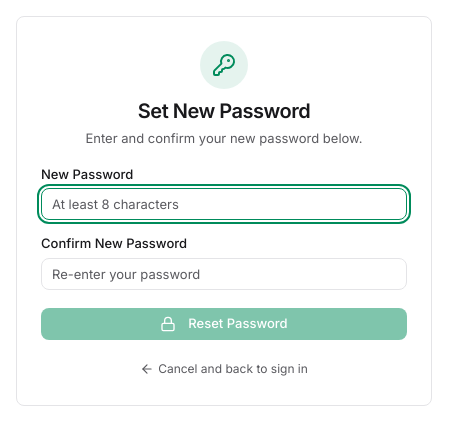
Scenario: Password Reset Frontend Feature › ResetPasswordPage displays reset form when valid token is present and handles submit
Check: the heading "Set New Password" is shown, box [138,99,310,123]
In the password field labelled "New Password": (224, 204) [41,188,407,220], type "brandNewPassword123!"
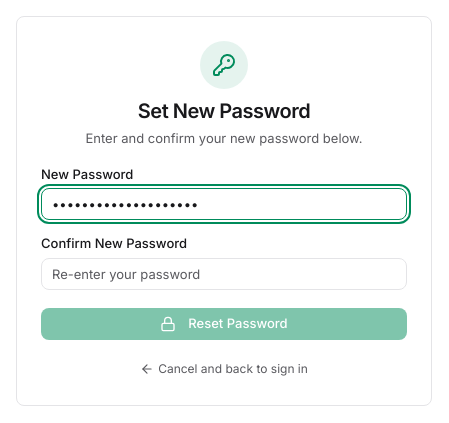
In the password field labelled "Confirm New Password": (224, 274) [41,258,407,290], type "brandNewPassword123!"
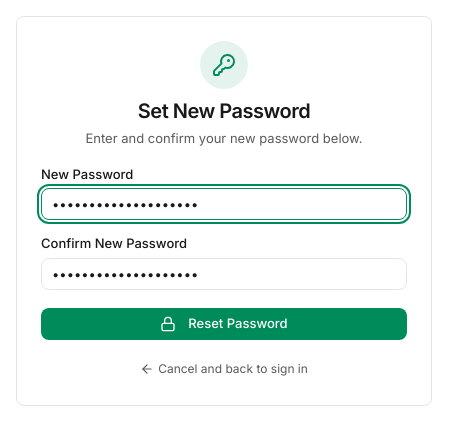
Click the button "Reset Password": (224, 324) [41,308,407,340]
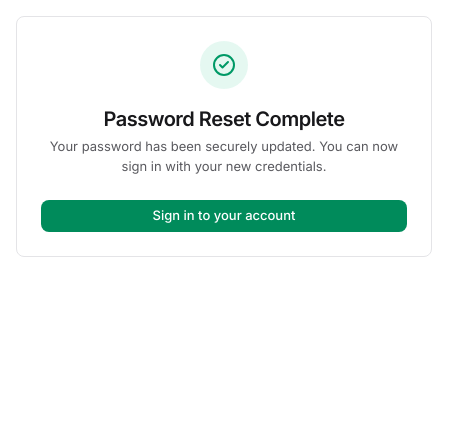
Check: the heading "Password Reset Complete" is shown, box [104,107,345,131]
Check: the button "Sign in to your account" is shown, box [41,200,407,232]
